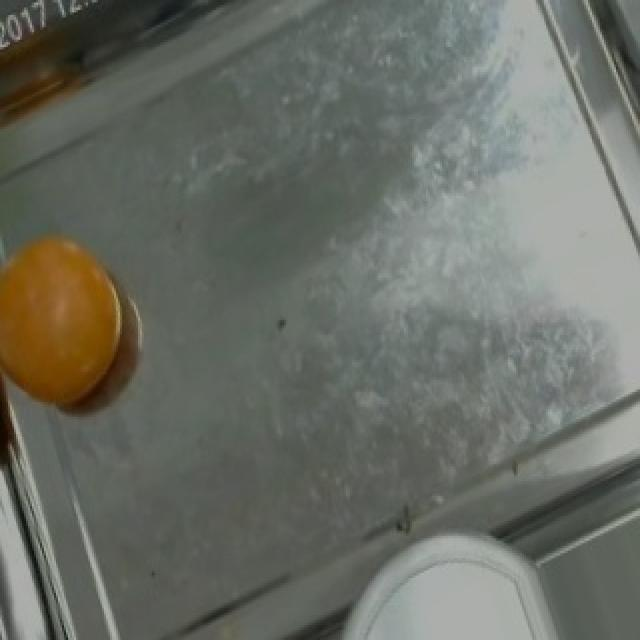Fruit: (2, 213, 144, 429), (340, 550, 562, 640)
